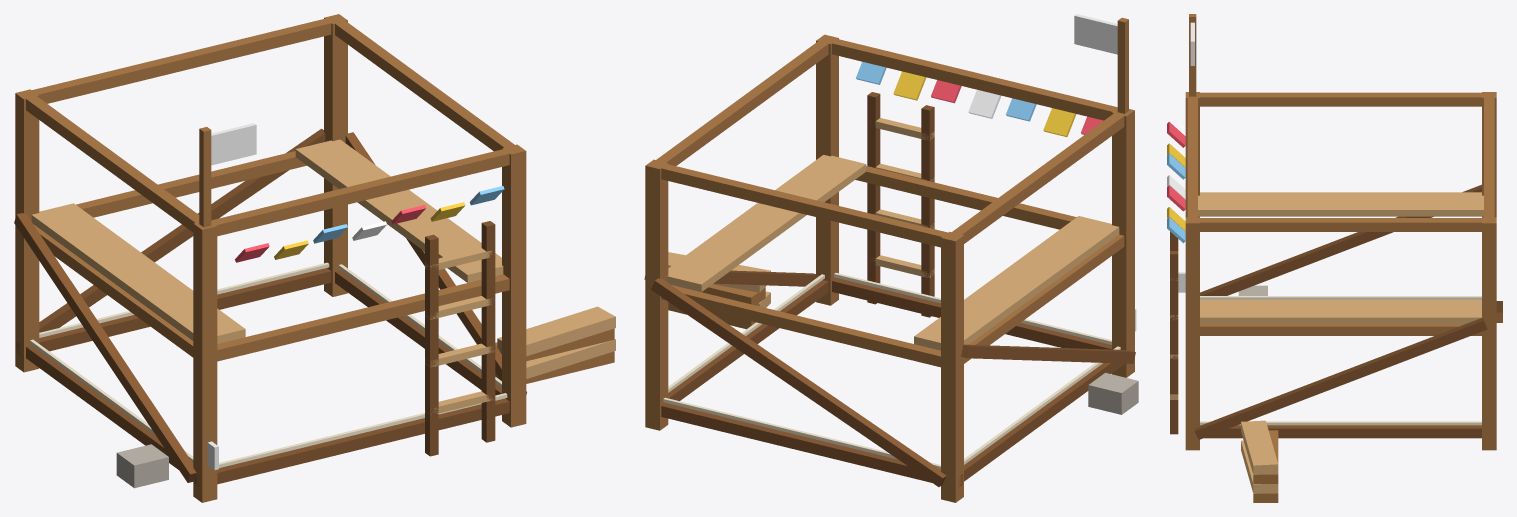
The model's file is rival-scaffold-blocky.glb.
3 renders of one model, left to right at view 1: azimuth 30°, elevation 25°; view 2: azimuth 150°, elevation 25°; view 3: azimuth 270°, elevation 25°, orthographic. The views are drawn at different scales.
Parts seen in each view (by area): view 1: stage-2, stage-3, stage-1, stage-0; view 2: stage-2, stage-3, stage-1, stage-0; view 3: stage-3, stage-2, stage-1, stage-0.
Part boxes in pixels (box(x1,y1,x2,y2)): stage-2: box(14, 14, 526, 501); stage-3: box(16, 15, 523, 343); stage-1: box(15, 178, 526, 502); stage-0: box(30, 262, 615, 488); stage-2: box(644, 34, 1135, 502); stage-3: box(647, 14, 1133, 350); stage-1: box(645, 192, 1134, 502); stage-0: box(663, 252, 1138, 469); stage-3: box(1167, 14, 1494, 324); stage-2: box(1170, 92, 1502, 450); stage-1: box(1185, 346, 1496, 450); stage-0: box(1178, 272, 1481, 502).
Bounding box in the file's own units: 2.26 × 1.62 × 1.61.
